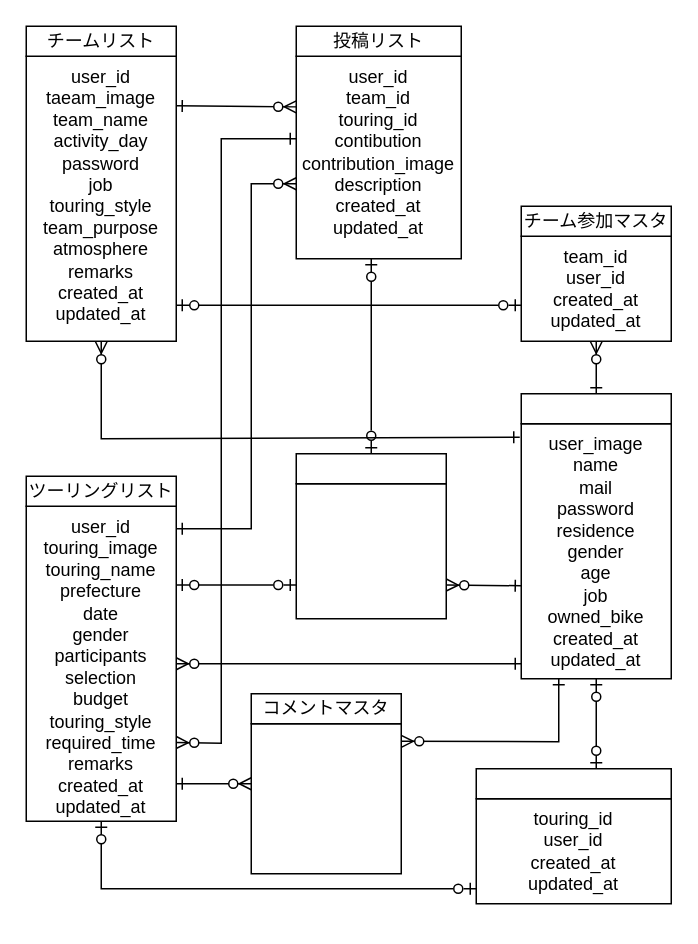
The diagram is 698 pixels wide and 944 high, and some of its shapes have lost their labels. Here are the shapes that lost their labels. From the top down, the box of each, then its label:
(520, 392, 671, 424): ユーザーリスト
(295, 452, 446, 484): お気に入りマスタ
(295, 482, 446, 619): touring_id contribution_id user_id created_at updated_at
(250, 722, 401, 874): touring_id contribution_id user_id content created_at updated_at
(475, 767, 671, 799): ツーリング参加マスタ
